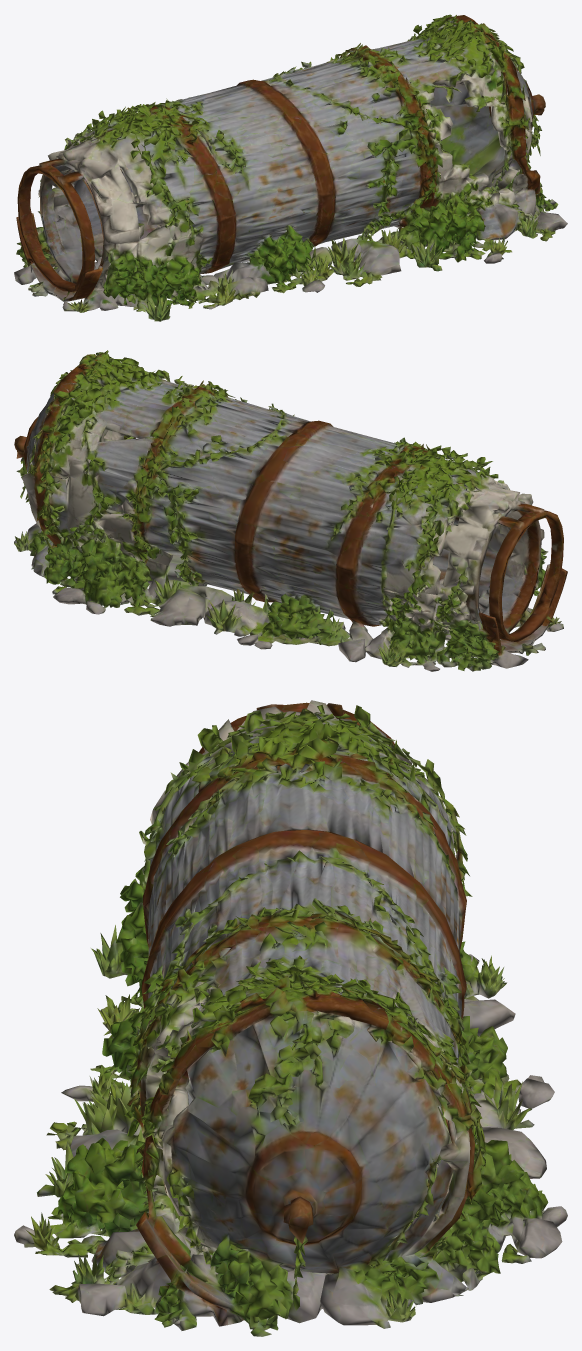
The model's file is silo.glb.
The picture shows the model from 3 angles, top to bottom: view 1: azimuth 30°, elevation 25°; view 2: azimuth 150°, elevation 25°; view 3: azimuth 270°, elevation 25°; orthographic projection. The views are drawn at different scales.
Size of the model in its own units: 1.9 by 0.632 by 1.01.
1 material, 1 textured.
